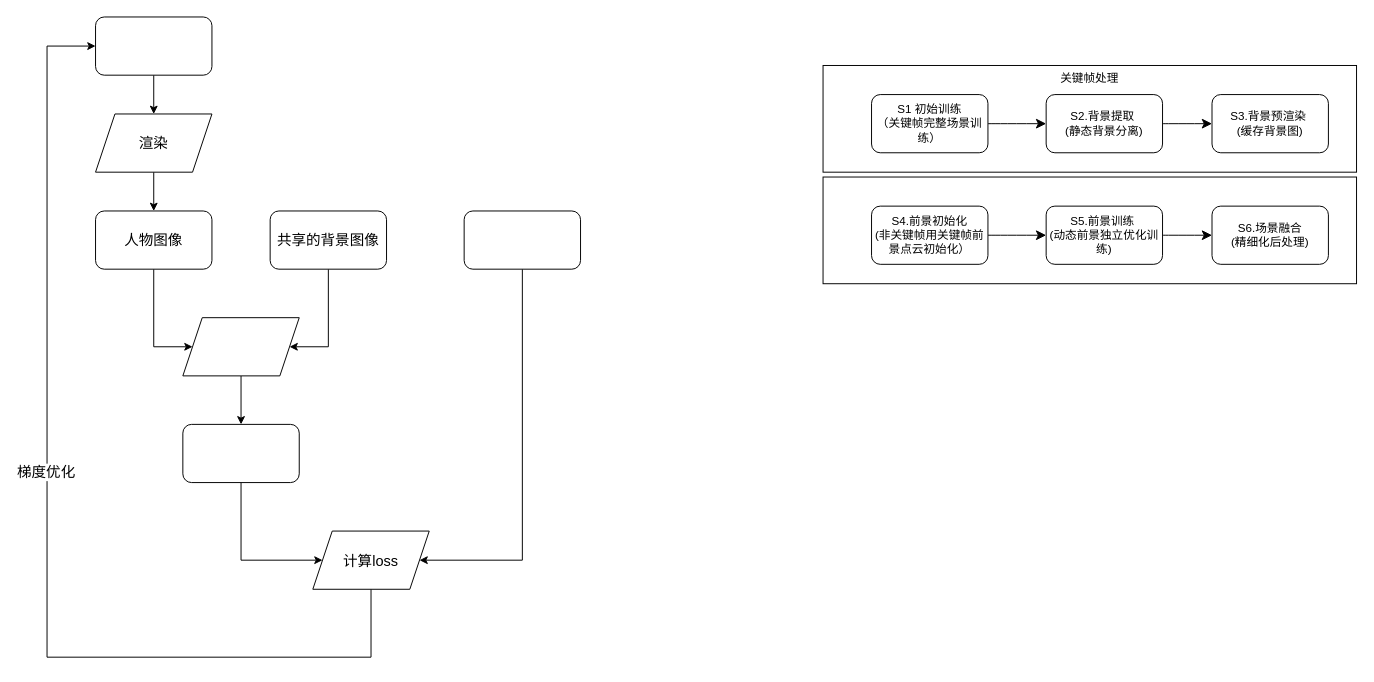
Image size: 1374x682. Some labels were removed from this diagram. The shapes that lost their labels are listed below. From the top down, each one's box as (x1, y1, x2, y2) in pixels, then its label:
(95, 16, 212, 75): 人物的高斯点
(463, 210, 581, 269): 原始图像 （真值）
(822, 176, 1357, 284): 非关键帧处理
(182, 317, 299, 376): 图像合成
(182, 423, 299, 483): 合成图像
